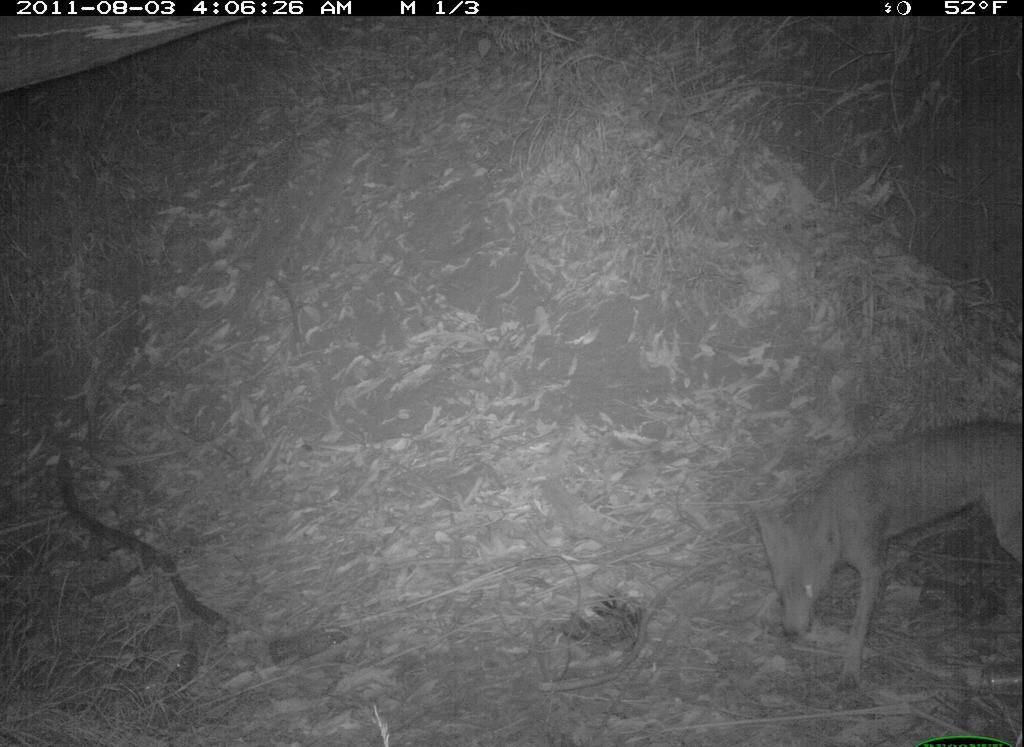coyote: (761, 408, 1022, 688)
